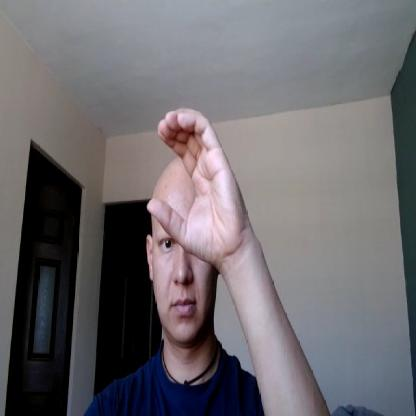C: (148, 106, 243, 260)
